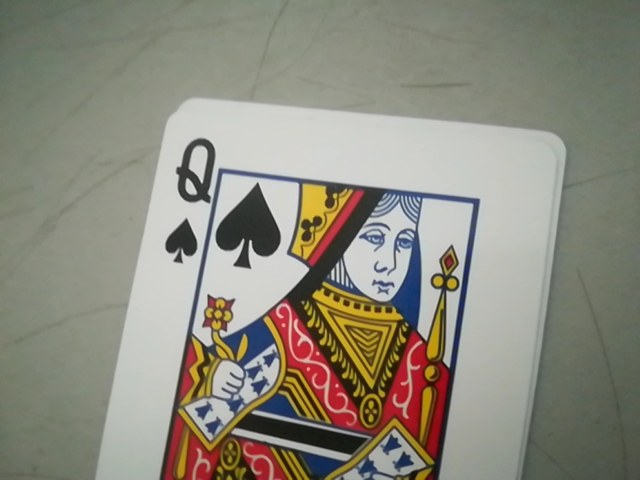ht q: (158, 114, 222, 262)
